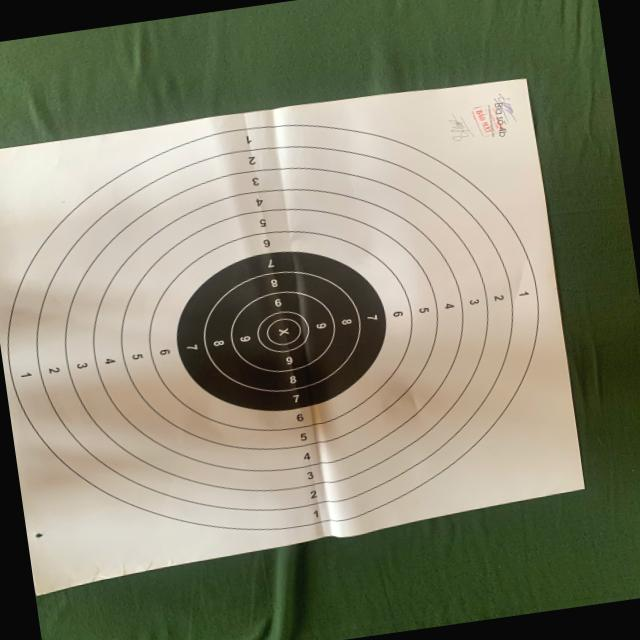bullet: (36, 533, 43, 538)
target: (0, 80, 583, 592)
